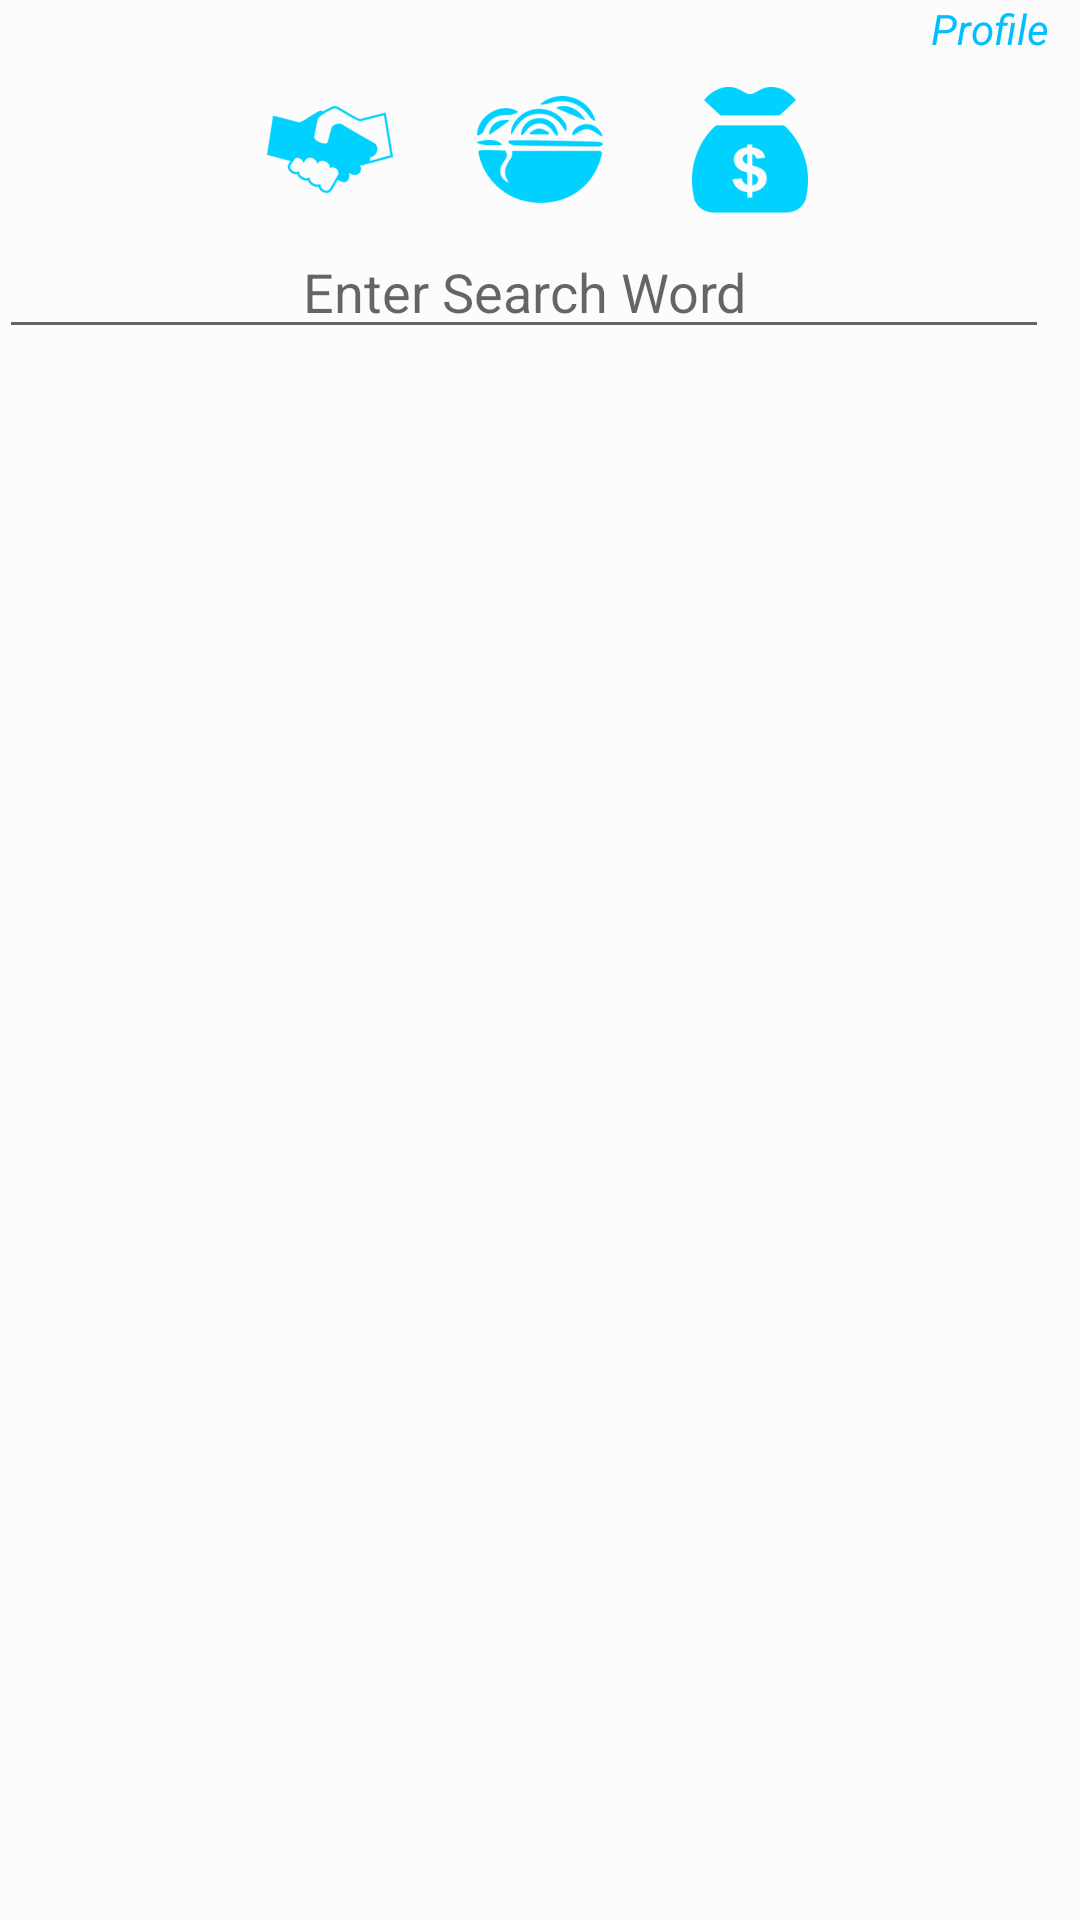

Icon click points for this 1080×1920 phone screenshot, format (x,y):
sales: (750,150)
service: (330,149)
